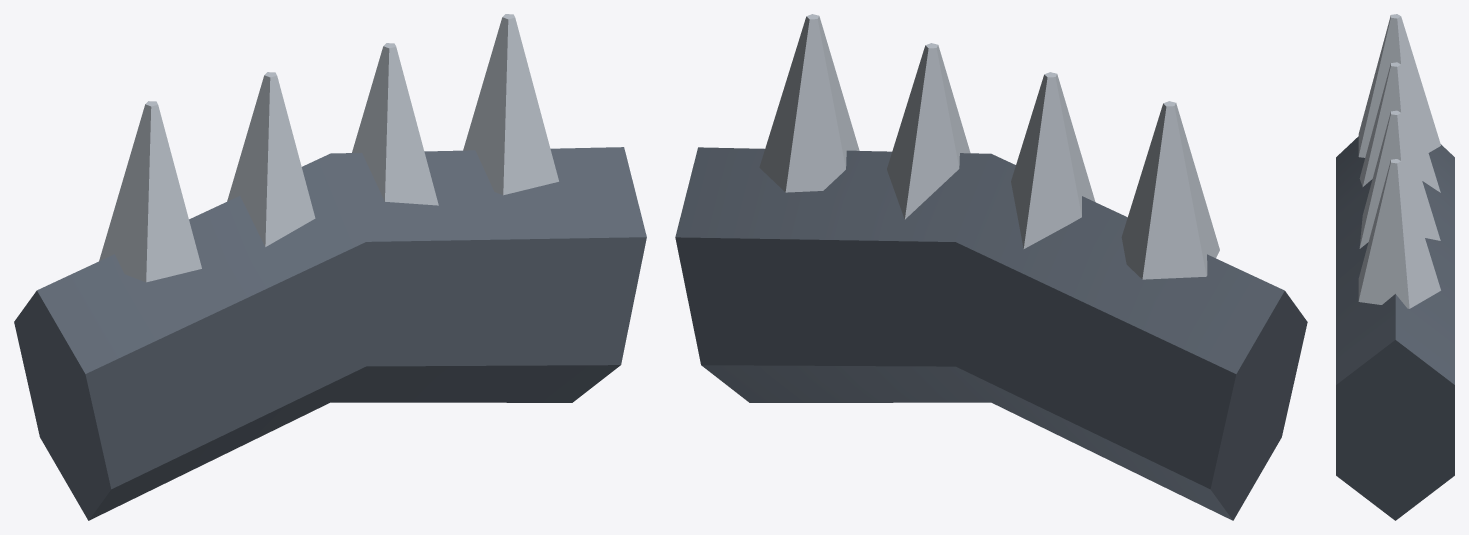
The model's file is Knuckle.fbx.
3 views of the same model, side by side, from view 1: azimuth 30°, elevation 25°; view 2: azimuth 150°, elevation 25°; view 3: azimuth 270°, elevation 25° (orthographic). The views are drawn at different scales.
Parts seen in each view (by area): view 1: Knuckle; view 2: Knuckle; view 3: Knuckle.
Part boxes in pixels (<box>): Knuckle: <box>14,14,646,520</box>; Knuckle: <box>675,14,1307,520</box>; Knuckle: <box>1336,14,1454,520</box>.
Size of the model in its own units: 0.0987 by 0.0645 by 0.0208.
